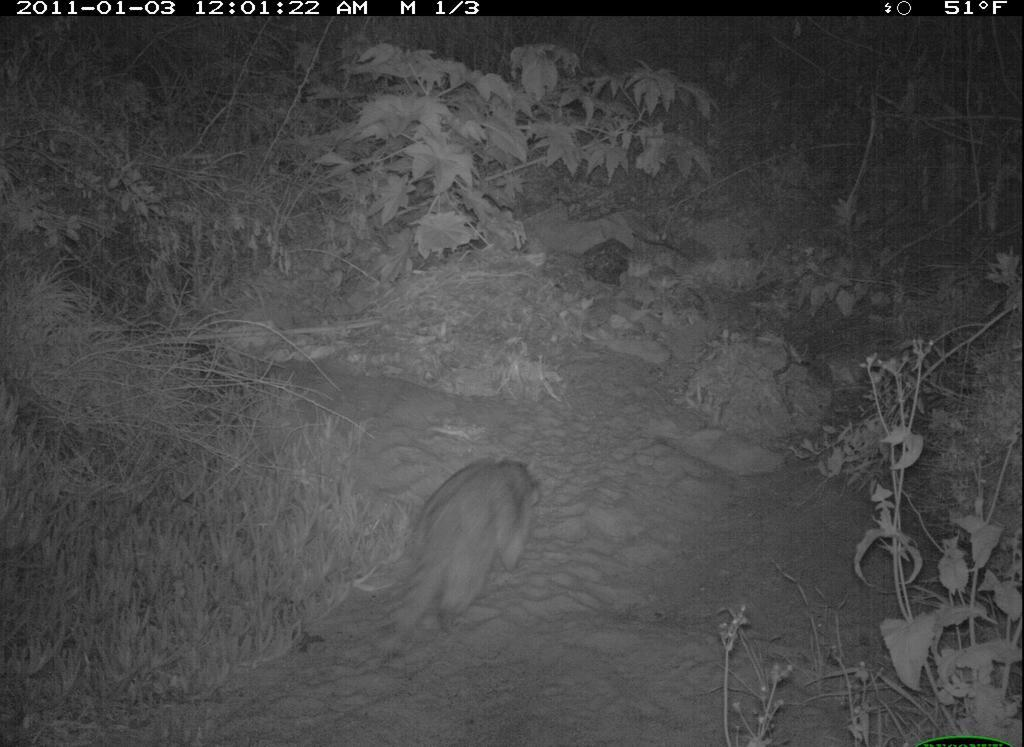raccoon: (379, 408, 557, 665)
